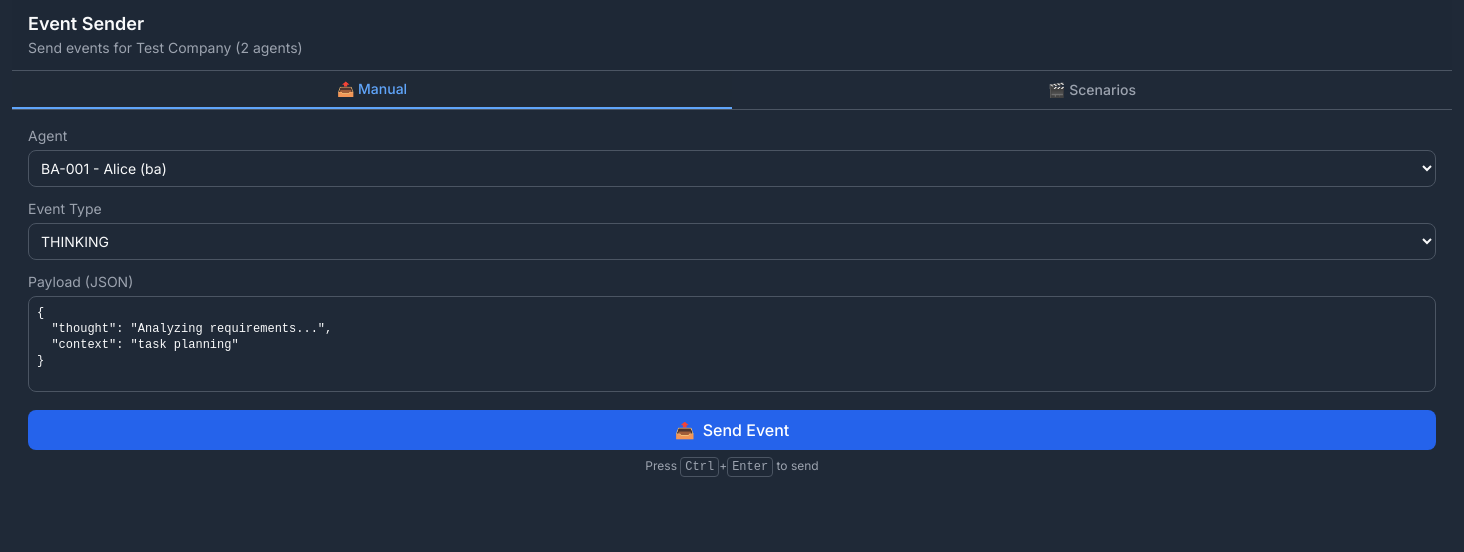
it: EventSender › AC4: Send event › shows success indicator after successful send
Step 1. Click the button "📤 Send Event" → (732, 430), box [28,410,1436,450]
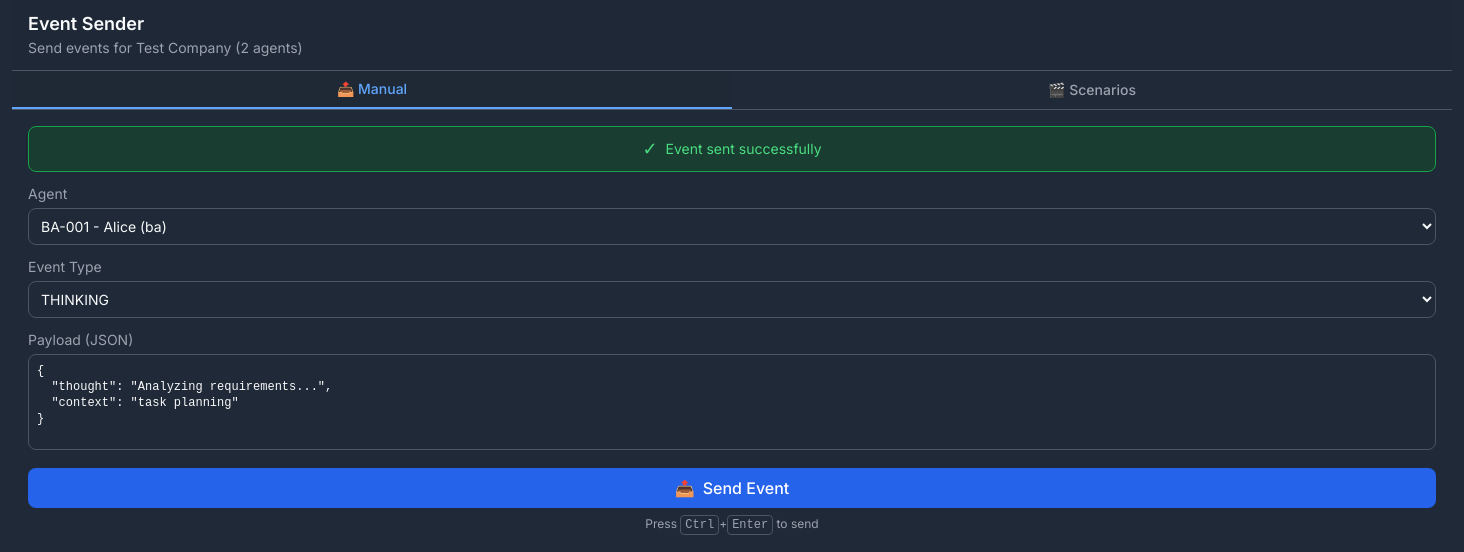
Check: the text "✓ Event sent successfully" is shown, box [28,126,1436,172]
